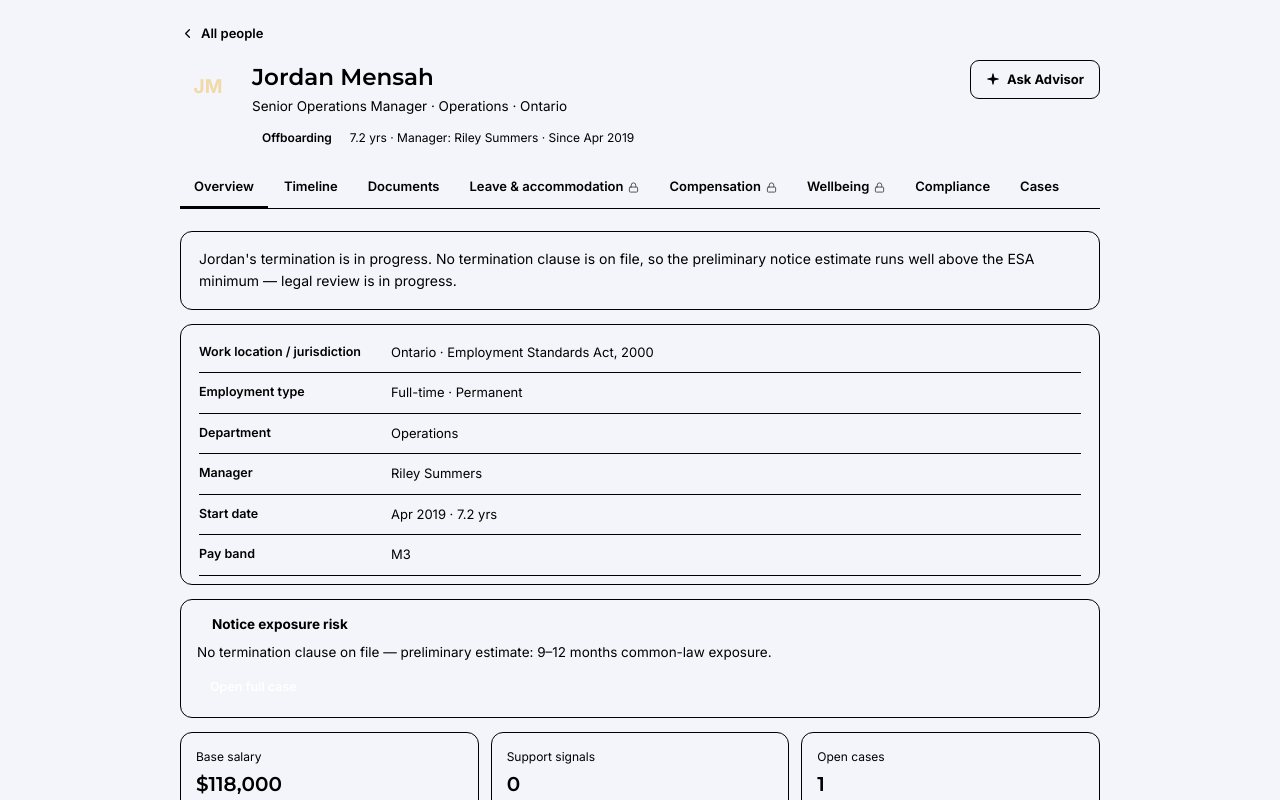
Test case: EmployeeProfileView › switches to the compensation tab: salary, market delta and pay-equity note
Click the tab "Compensation": (723, 188) top-left (656, 168), bottom-right (791, 208)
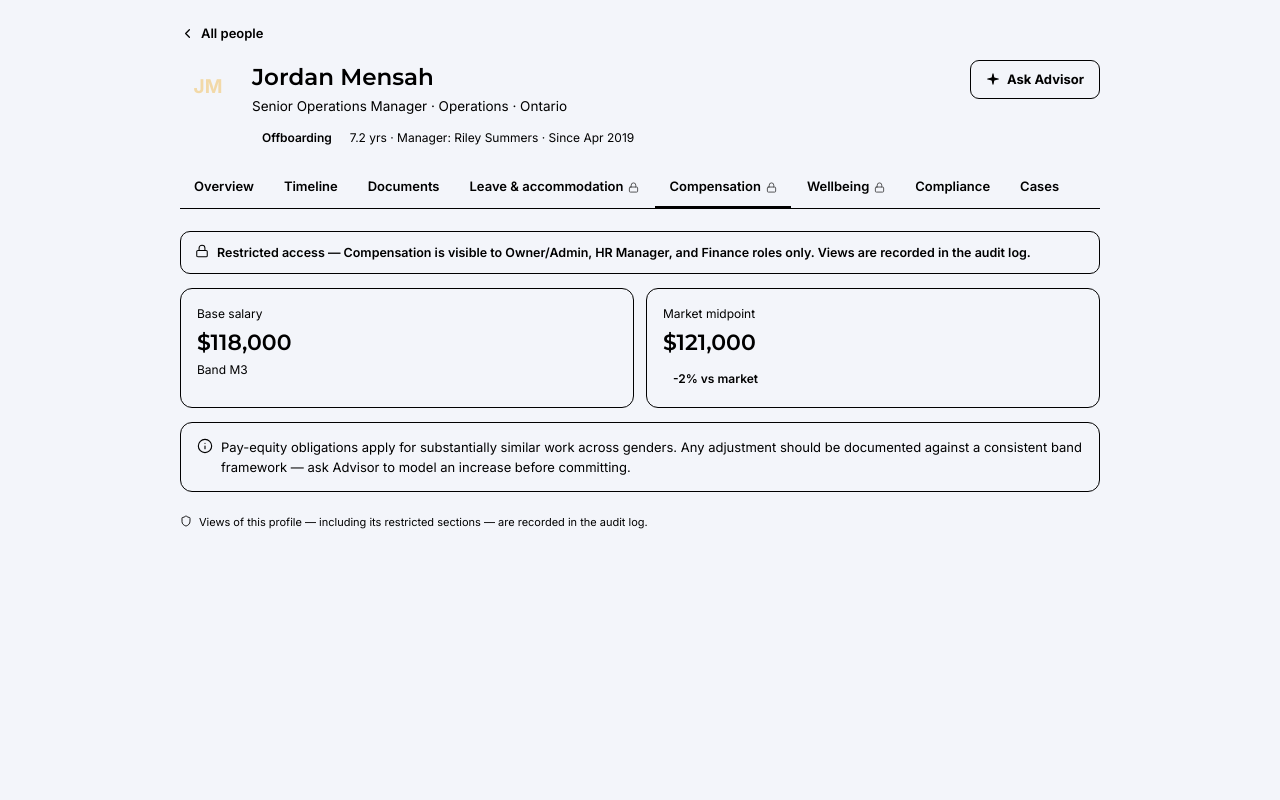
Now the text "$121,000" is shown, box top-left (663, 329), bottom-right (756, 356)
Now the text "-2% vs market" is shown, box top-left (673, 371), bottom-right (758, 386)
Now the text "Pay-equity obligations apply" is shown, box top-left (221, 439), bottom-right (1082, 475)
